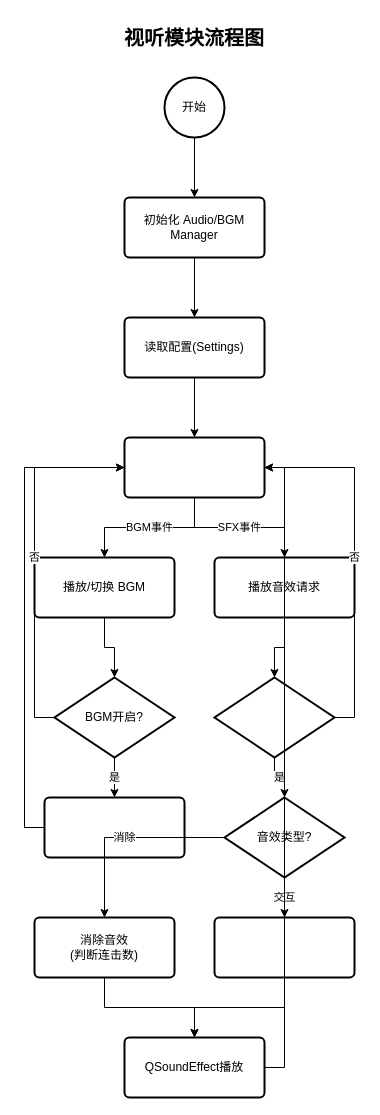
Image size: 380x1115. Some labels were removed from this diagram. Here are the shapes that lost their labels. From the top down, the box of each, then its label:
(123, 436, 265, 498): 事件循环
(213, 676, 335, 758): 音效开启?
(43, 796, 185, 858): QMediaPlayer播放
(213, 916, 355, 978): UI音效 (点击/悬停)
